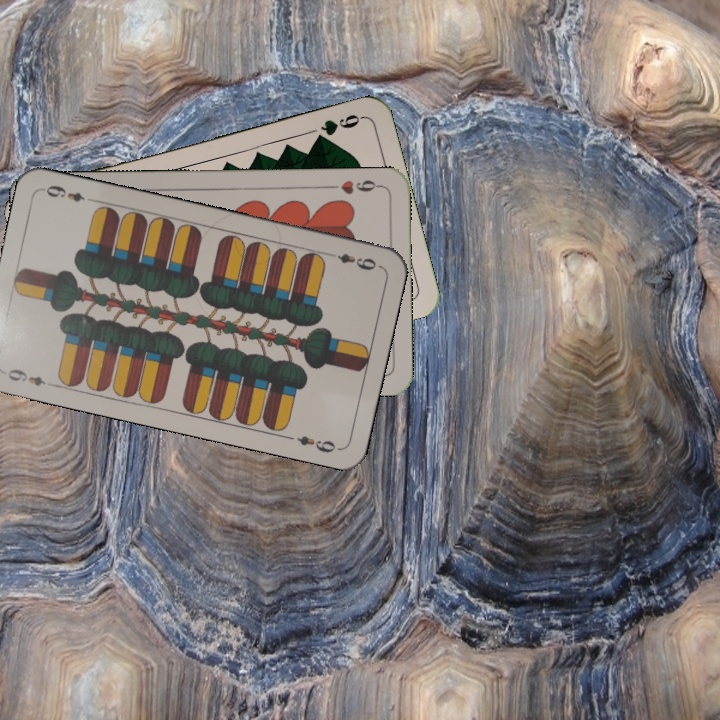E9: (323, 249, 382, 273), (3, 365, 57, 389)
G9: (310, 110, 366, 145)
H9: (325, 176, 384, 197)
